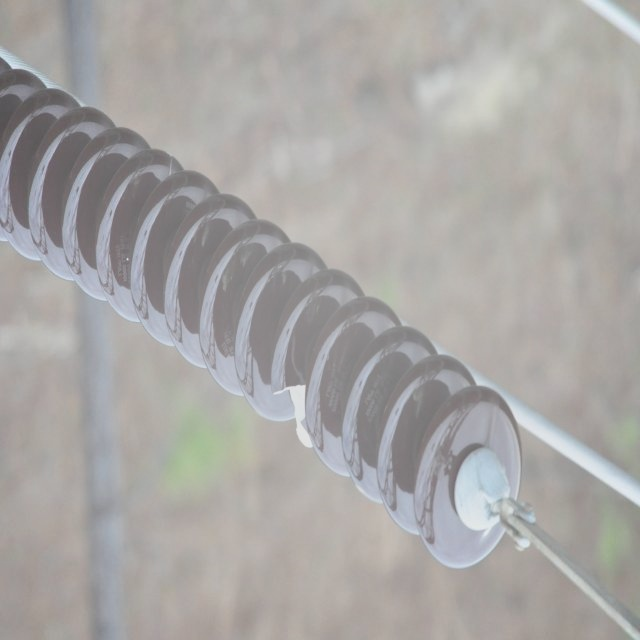broken: (272, 380, 316, 449)
insulator: (0, 54, 522, 570)
